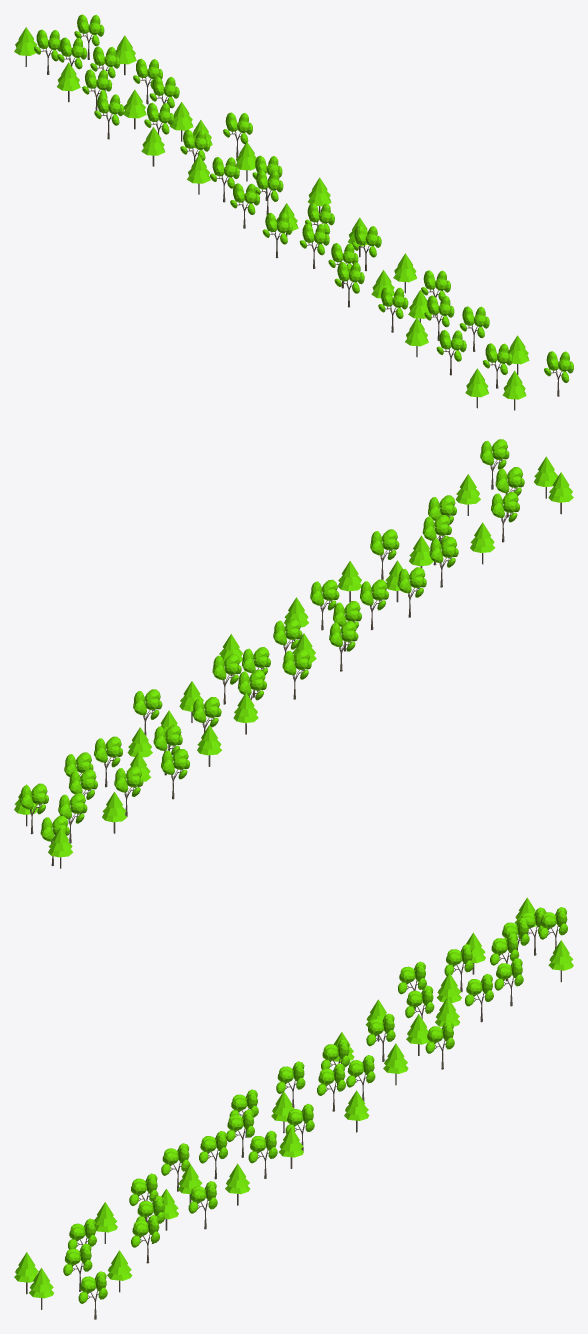
The model's file is groun_thrrr_shadow.fbx.
The picture shows the model from 3 angles, top to bottom: view 1: azimuth 30°, elevation 25°; view 2: azimuth 150°, elevation 25°; view 3: azimuth 330°, elevation 25°; orthographic projection. The views are drawn at different scales.
Visible parts, largest first — view 1: Cone.015; view 2: Cone.015; view 3: Cone.015.
Part boxes in pixels (x1=…): Cone.015: x1=14, y1=14, x2=573, y2=410; Cone.015: x1=14, y1=439, x2=573, y2=868; Cone.015: x1=14, y1=897, x2=573, y2=1319.
Bounding box in the file's own units: 3186 × 1730 × 26040.
